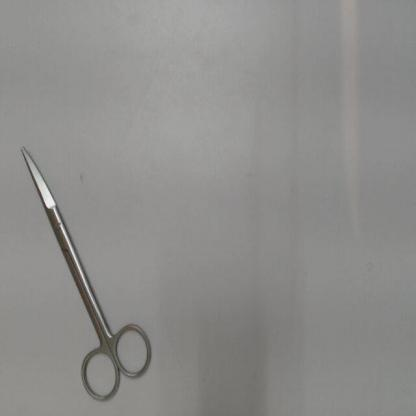Curved Mayo Scissors: (13, 137, 158, 410)
